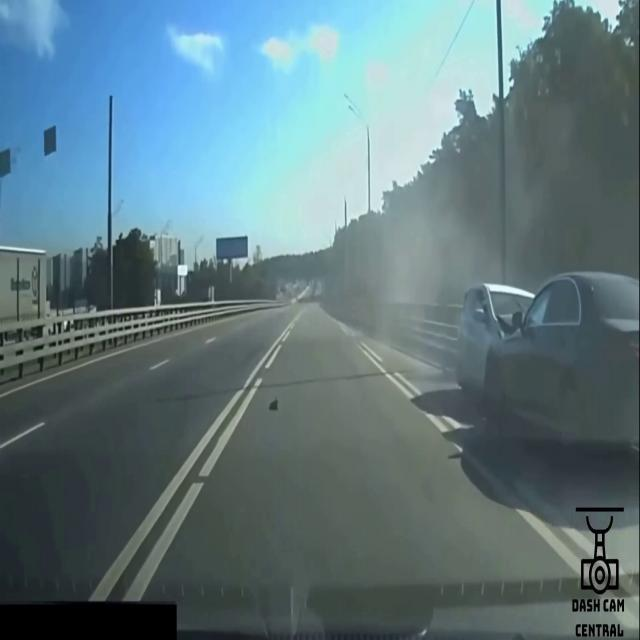accident: (457, 284, 640, 448)
